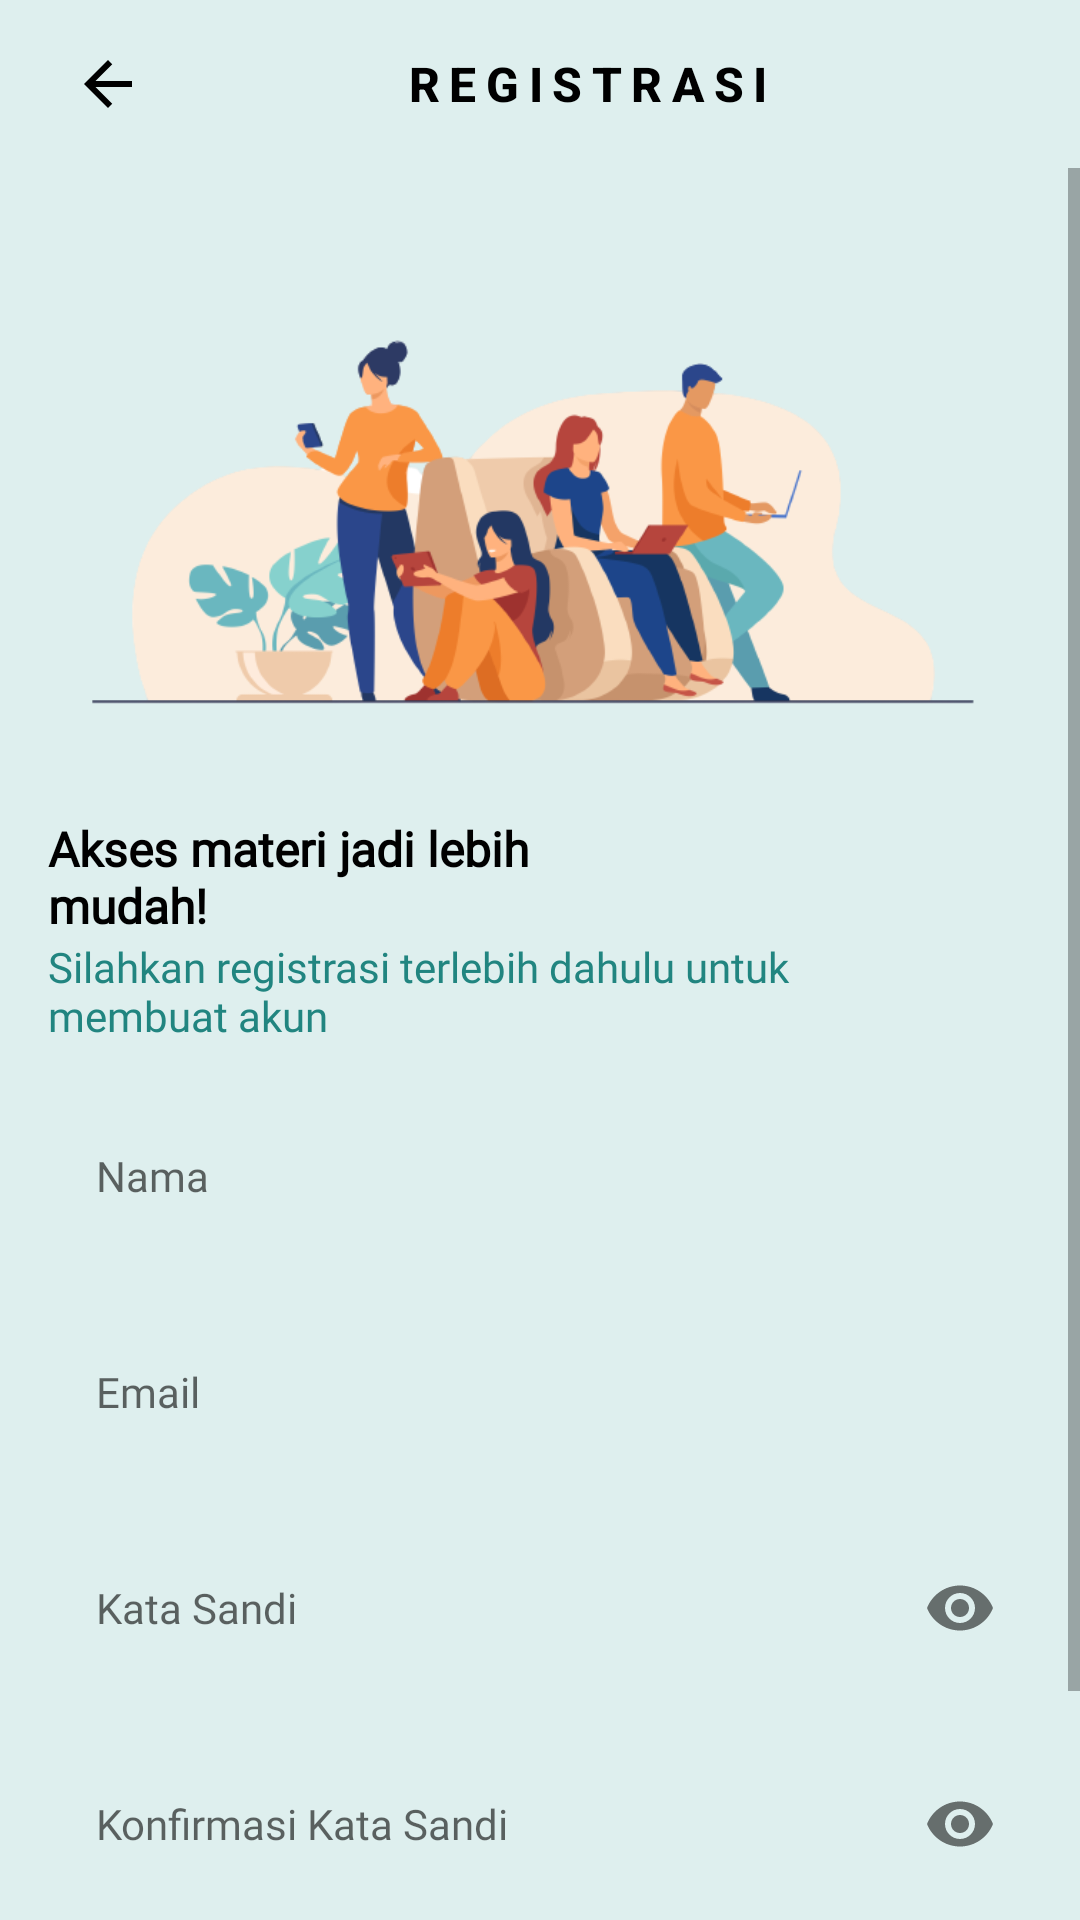

Screen size 1080x1920. Icon name, then its center in pixels as (x=x, y=y):
arrow back: (x=108, y=84)
